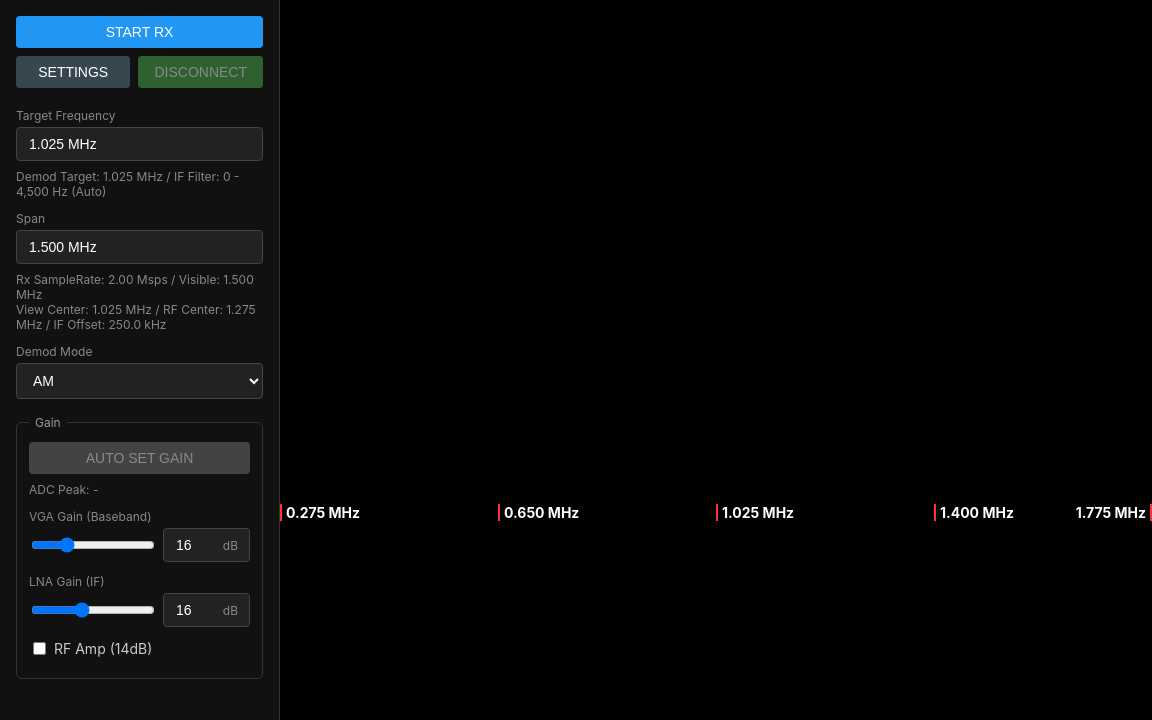
Test case: App.vue › opens target keypad with clicked frequency prefilled
Click the element with class "canvas-container" at (716, 360), box [280,0,1151,719]
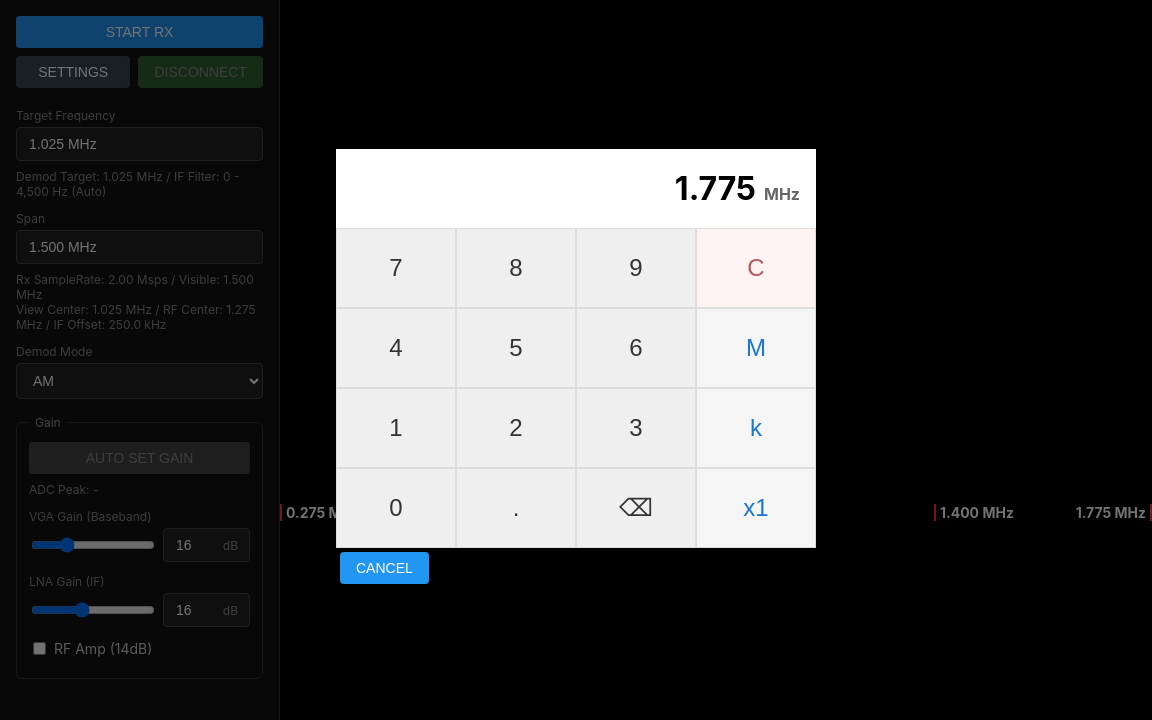
Expected: the text "Input Target Frequency" is shown, [336,132,490,149]
Expected: the text "1.775" is shown, [675,169,756,208]
Expected: the text with class "unit" reads "MHz", [764,184,800,204]
